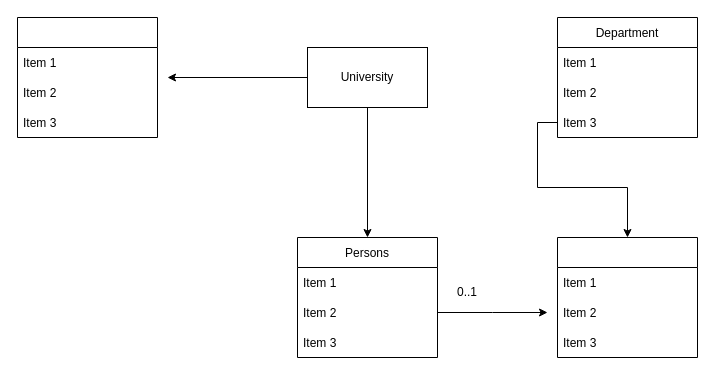
The diagram is 715 pixels wide and 375 high, and some of its shapes have lost their labels. Each missing label, with the box of its shape:
Class: (16, 16, 158, 138)
Office: (556, 236, 698, 358)
